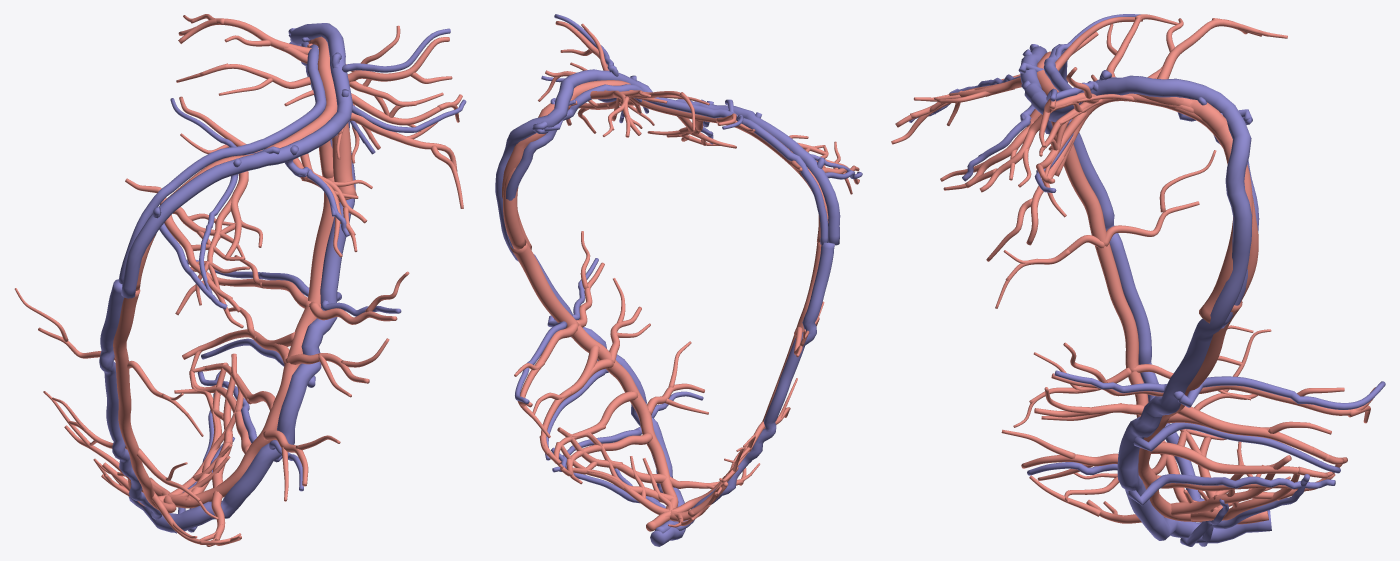
The model's file is vessels_32.glb.
3 views of the same model, side by side, from view 1: azimuth 30°, elevation 25°; view 2: azimuth 150°, elevation 25°; view 3: azimuth 270°, elevation 25° (orthographic). The views are drawn at different scales.
Parts seen in each view (by area): view 1: Renderer Node; view 2: Renderer Node; view 3: Renderer Node.
Boxes of the visible parts, x1,y1,x2,y2 form: Renderer Node: (14, 14, 466, 546); Renderer Node: (495, 14, 862, 546); Renderer Node: (891, 14, 1385, 546).
Size of the model in its own units: 93.75 by 120 by 94.72.
